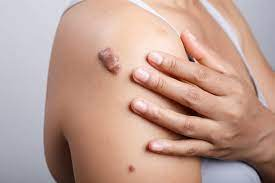keloid: (90, 43, 127, 76)
